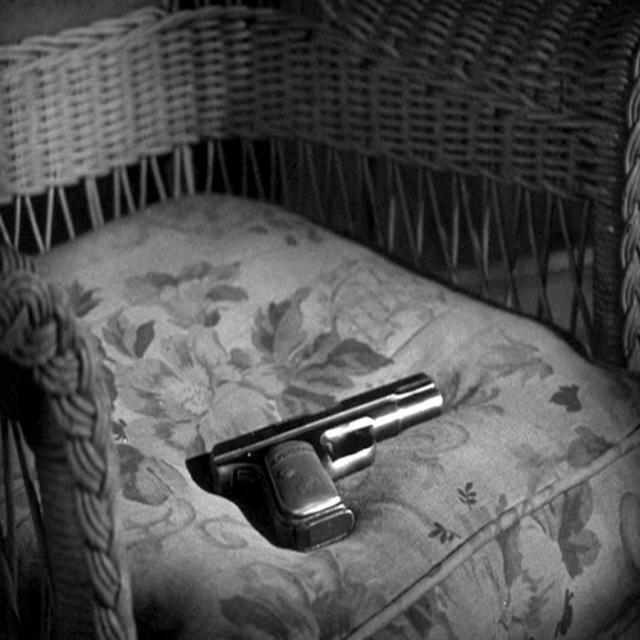gun-knife-thesis - v11 Yolov5 augmented: (204, 364, 455, 554)
